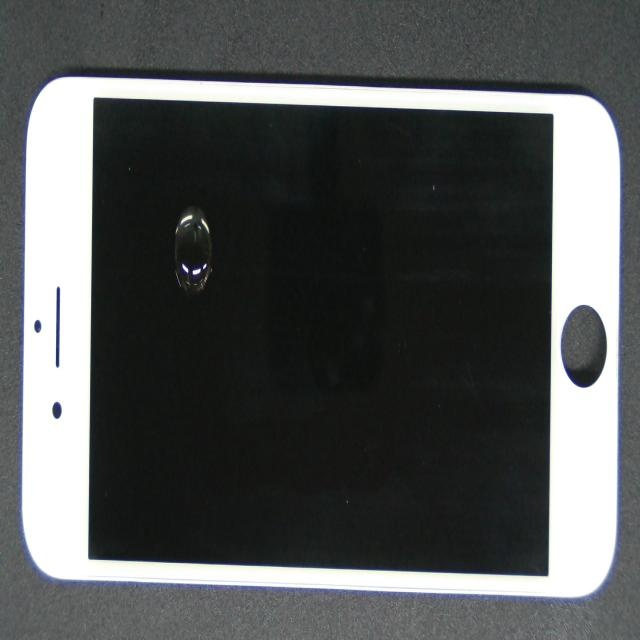oil: (112, 111, 303, 312)
